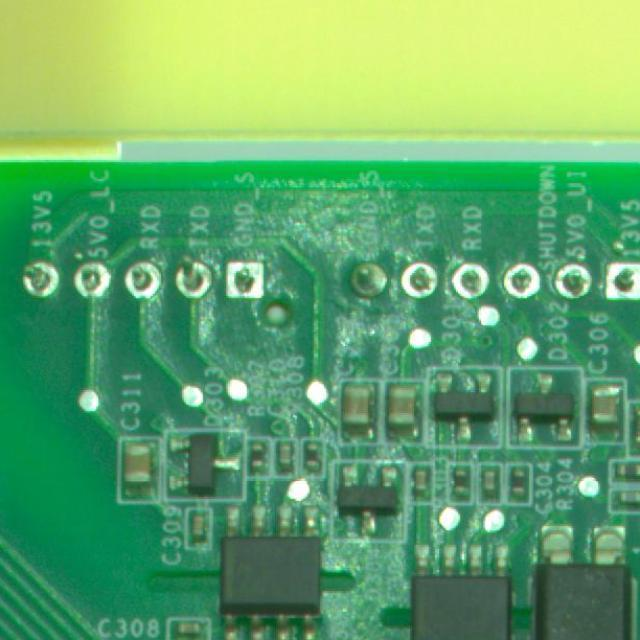Insufficient solder: (12, 254, 60, 302), (449, 254, 496, 301), (122, 260, 168, 308), (226, 258, 274, 304), (558, 263, 598, 316), (74, 251, 108, 311), (176, 258, 216, 308), (396, 257, 442, 300), (506, 256, 548, 302), (608, 262, 640, 307)
